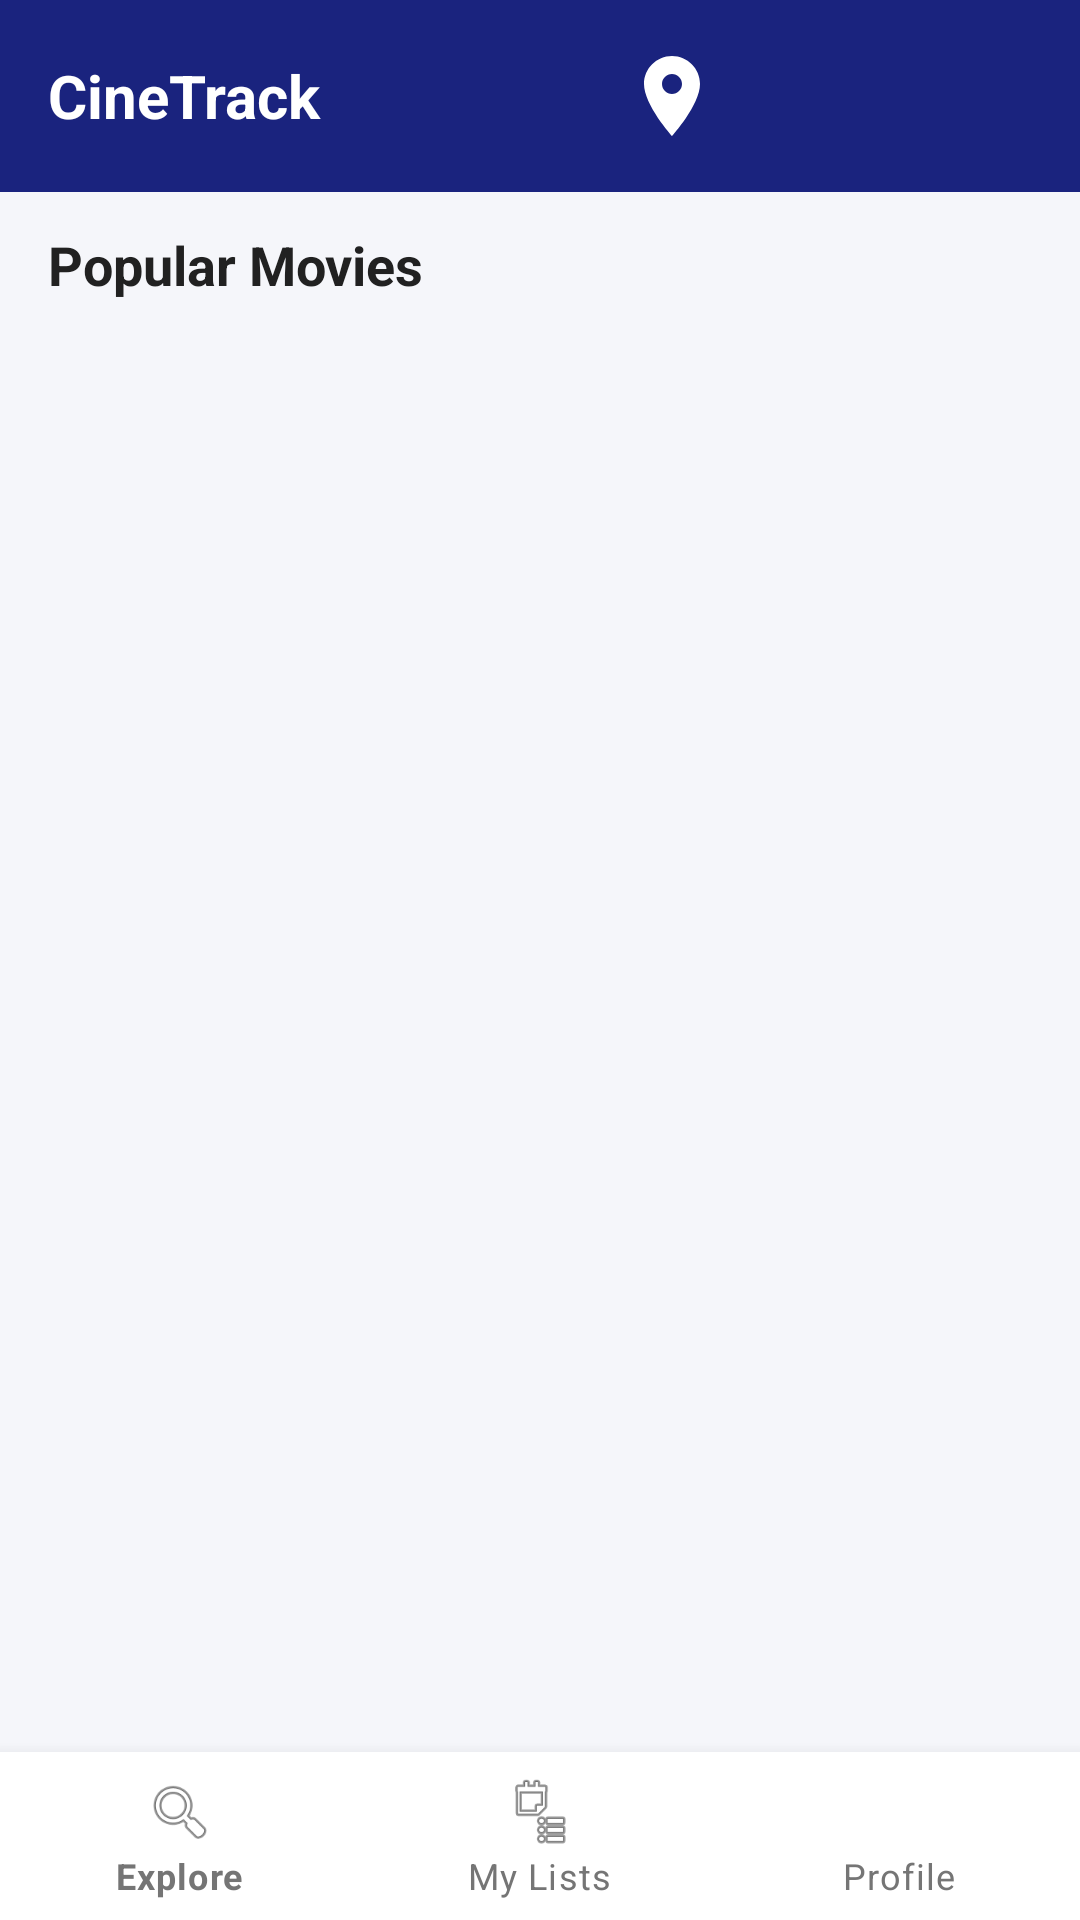

Icons on this 1080×1920 Android screen, each with its box as (x1, y1, x2, y2):
Cinemas Nearby: (644, 56, 700, 136)
